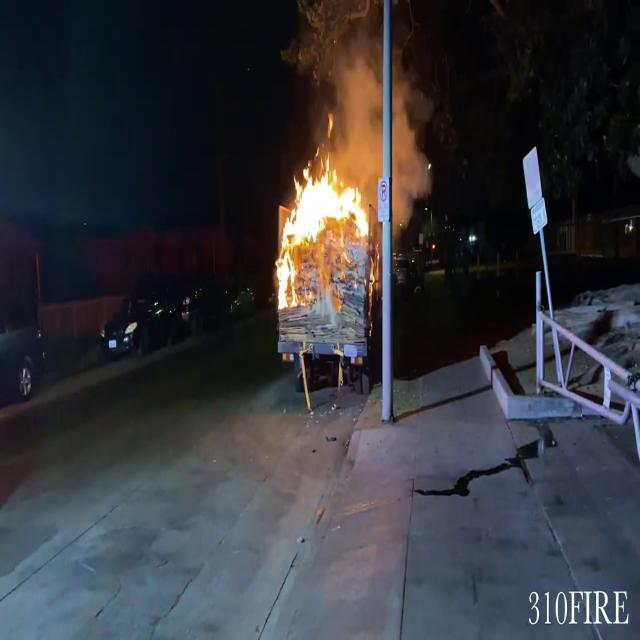Fire: (269, 148, 373, 309)
Smoke: (332, 0, 432, 204)
